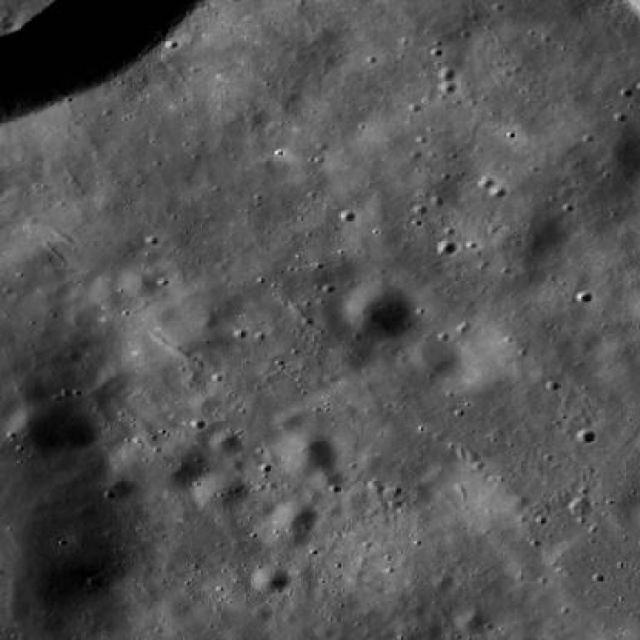crater: (338, 502, 492, 620), (8, 392, 94, 458), (478, 300, 564, 365), (114, 428, 198, 492), (346, 282, 414, 336), (276, 428, 338, 474), (194, 467, 248, 510), (258, 511, 310, 551), (412, 338, 458, 373), (270, 496, 315, 530), (502, 544, 542, 574), (116, 266, 156, 296), (250, 562, 288, 590), (330, 343, 366, 371), (272, 407, 306, 433), (88, 279, 120, 304), (455, 608, 488, 632), (208, 428, 240, 452), (314, 466, 344, 491), (434, 78, 456, 95), (436, 238, 458, 254), (1, 1, 2, 2)
